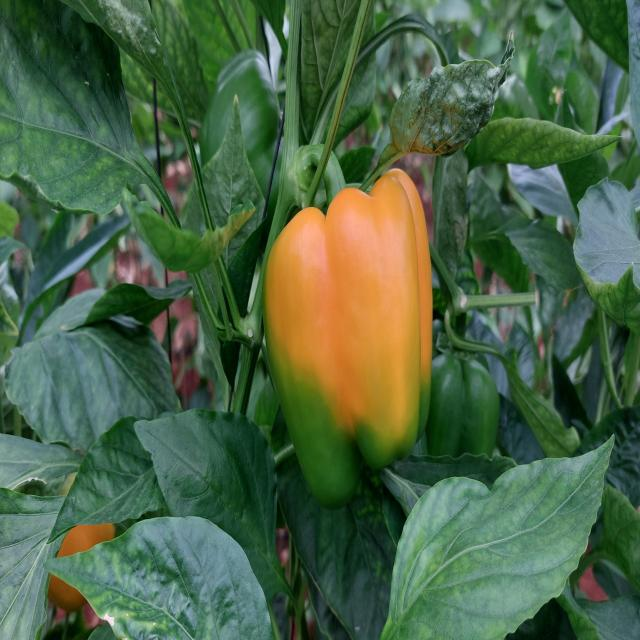Yellow-Ready-to-Harvest: (261, 166, 436, 507)
